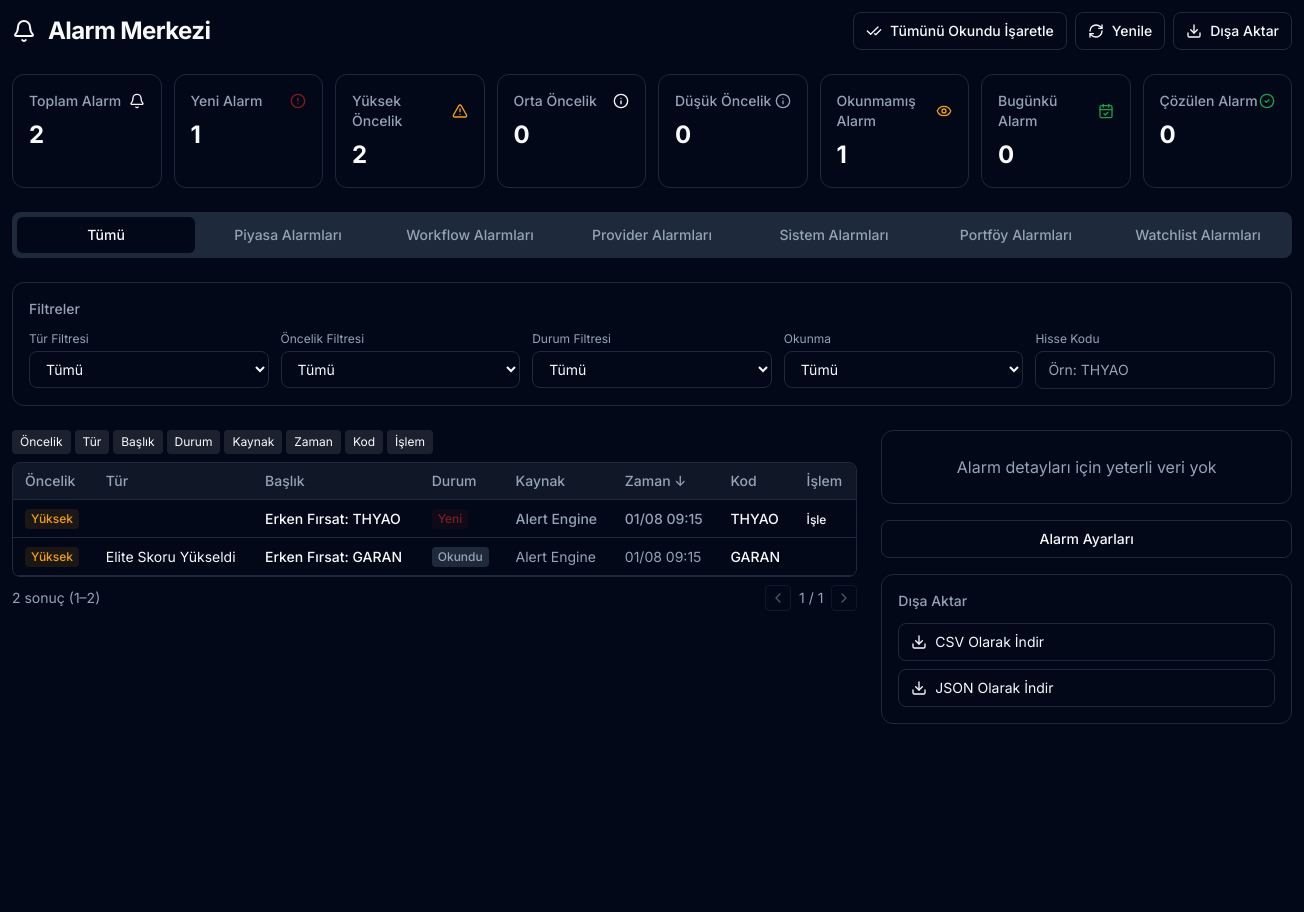
Scenario: AlertsPage › toggles settings panel closed
Step 1. Click the button "Alarm Ayarları" → click(1087, 539), box [881, 520, 1292, 558]
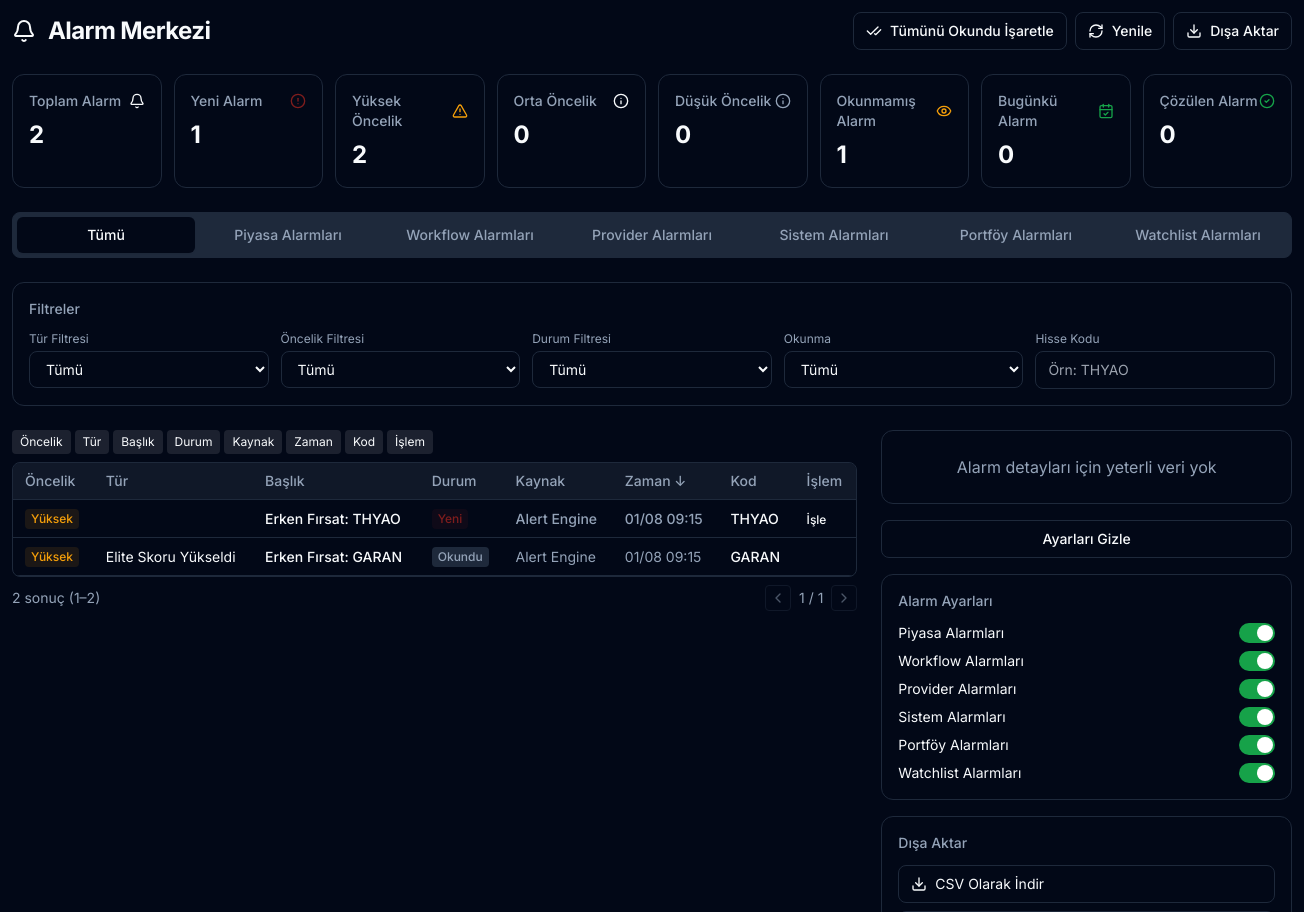
Step 2. Click the button "Ayarları Gizle" → click(1087, 539), box [881, 520, 1292, 558]
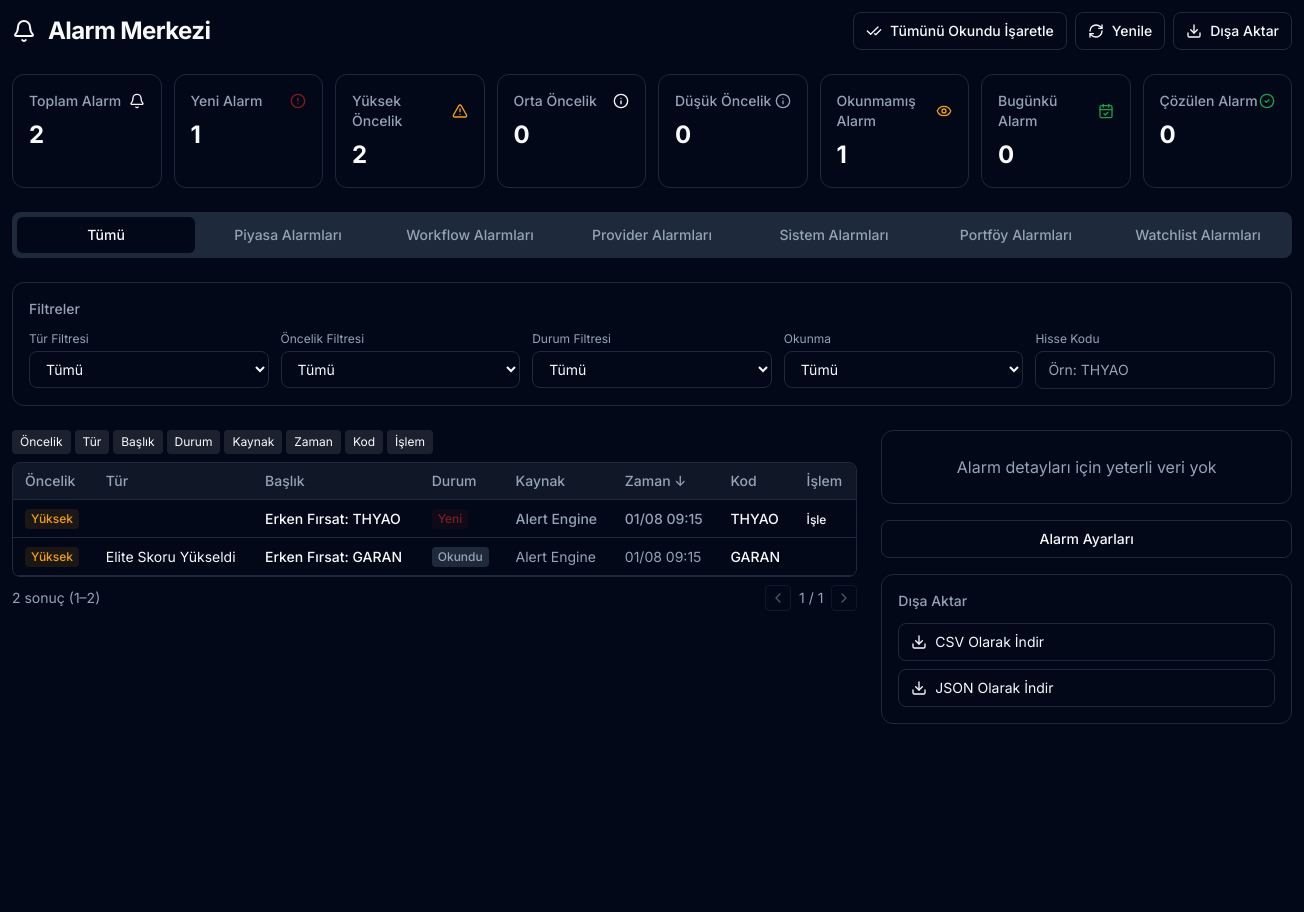
Now the switch is gone
